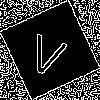V: (25, 25, 71, 79)
